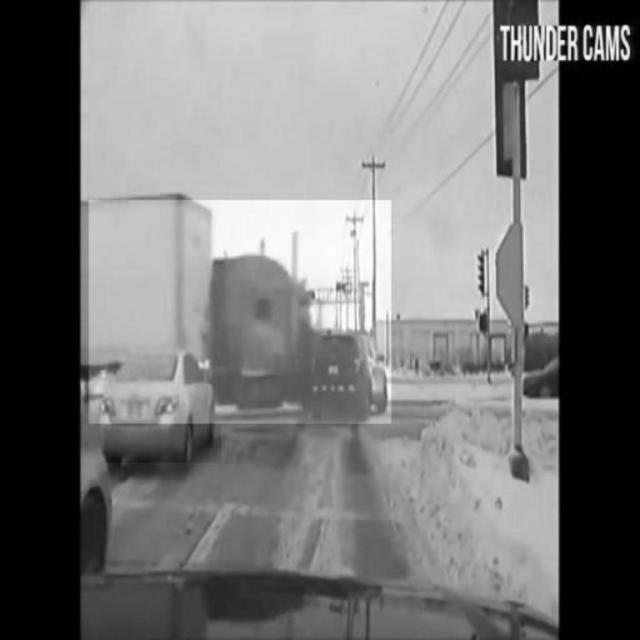accident: (90, 200, 392, 424)
vehicle: (104, 355, 222, 463)
